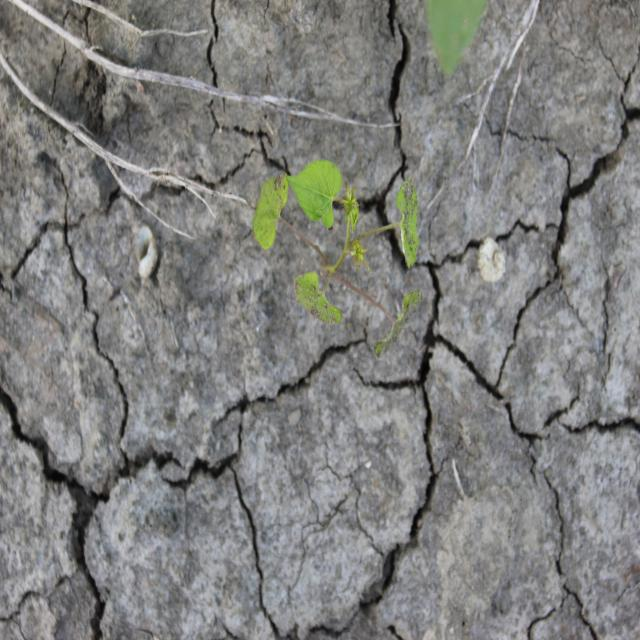MorningGlory: (252, 158, 423, 360)
